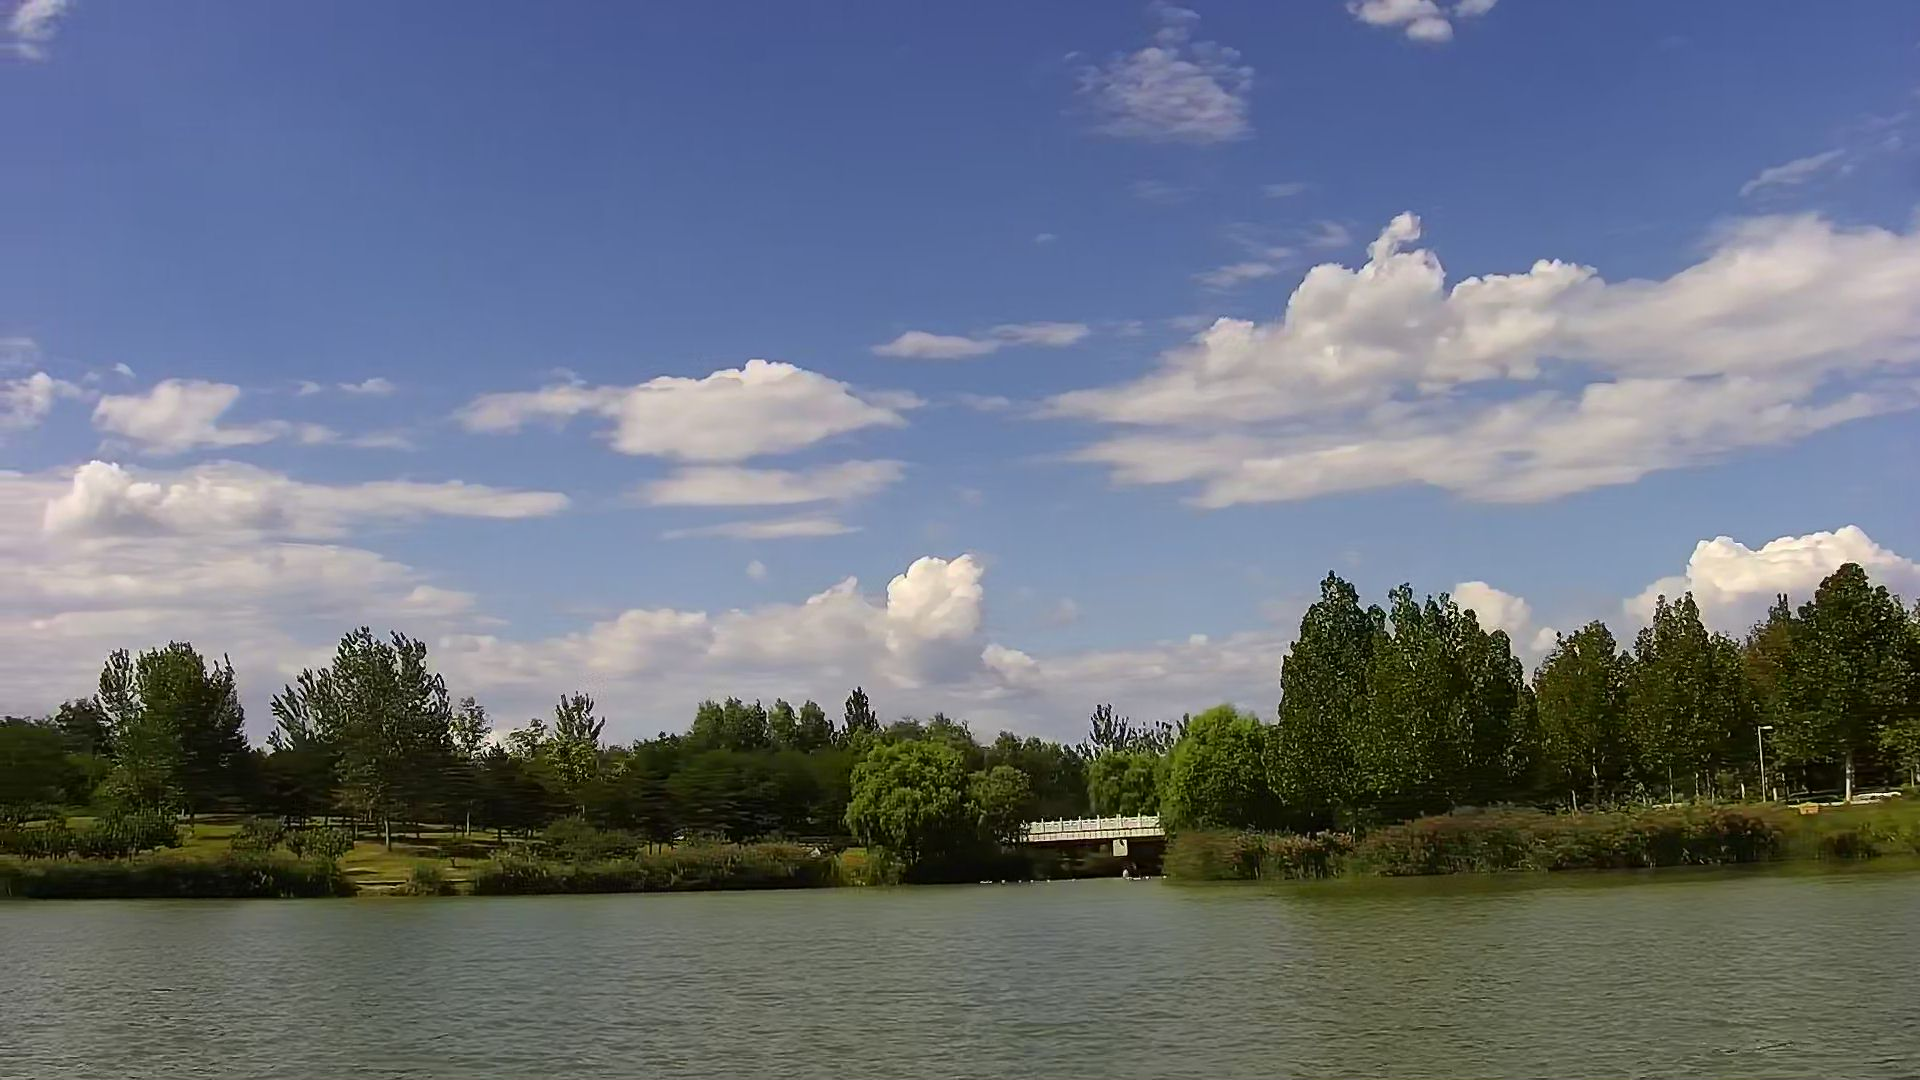bridge: (1017, 818, 1160, 884)
